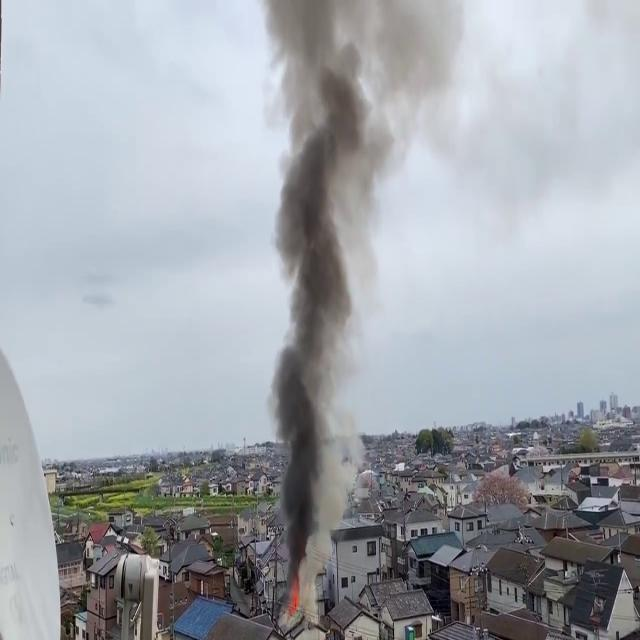Smoke: (260, 0, 409, 582)
